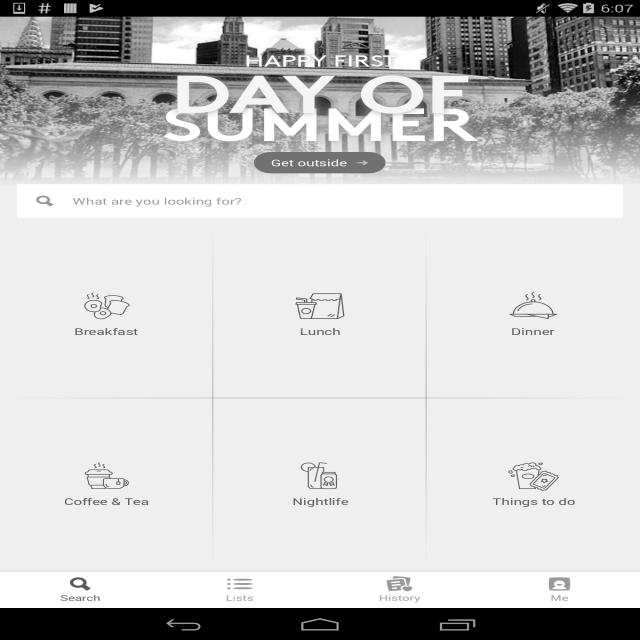Button: (254, 152, 385, 173)
ImageButton: (17, 184, 73, 218)
ImageView: (0, 17, 640, 186), (293, 289, 347, 322), (293, 459, 347, 492), (80, 289, 133, 322), (507, 289, 560, 322), (80, 459, 133, 492), (507, 459, 560, 492), (67, 576, 93, 592), (227, 576, 252, 592), (387, 576, 412, 592), (547, 576, 572, 592)
TextView: (17, 62, 623, 126), (34, 96, 606, 153), (34, 51, 606, 71), (72, 195, 623, 207), (178, 593, 301, 603), (338, 593, 461, 603), (498, 593, 621, 603), (19, 593, 141, 603), (64, 495, 149, 508), (492, 495, 575, 508), (74, 325, 139, 338), (292, 495, 348, 508), (511, 325, 555, 338), (299, 325, 341, 338)
